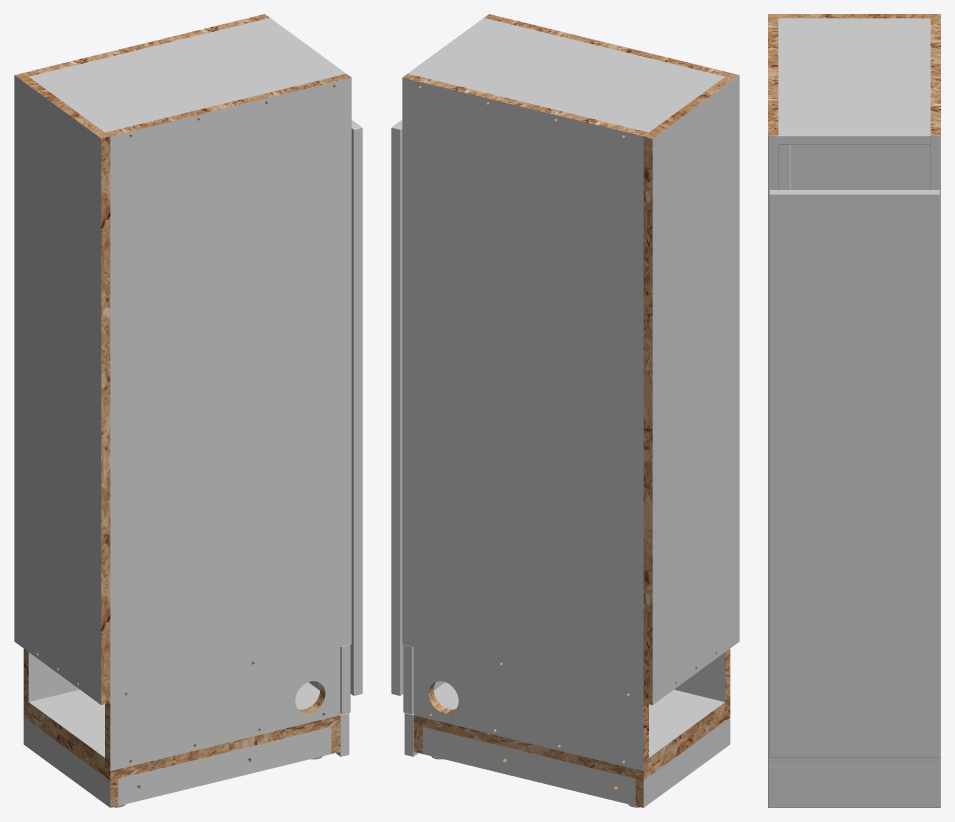
Rendered from Luvio(wood)_Semi_1C1D.glb.
3 renders of one model, left to right at view 1: azimuth 30°, elevation 25°; view 2: azimuth 150°, elevation 25°; view 3: azimuth 270°, elevation 25°, orthographic.
Visible parts, largest first — view 1: Body_Main_Left, Body_Main_BackPanel, Body_Main_UpCapTop, Door_Main_Front, Body_Core_BackPanel, Base_Core_Top, Body_Main_Bottom, Base_Main_Back, Body_Core_Left, Body_Main_Core_RightPanel, Body_Main_RightPanel, Body_Main_Plinth (+1 smaller); view 2: Body_Main_RightPanel, Body_Main_BackPanel, Body_Main_UpCapTop, Door_Main_Front, Body_Core_BackPanel, Base_Core_Top, Body_Main_Bottom, Base_Main_Back, Body_Main_Core_RightPanel, Body_Core_Left, Body_Main_Left, Body_Main_Plinth (+1 smaller); view 3: Door_Main_Front, Body_Main_UpCapTop, 0type_woodSemi, Body_Main_BackPanel, Body_Main_Plinth, Body_Main_Left, Body_Main_RightPanel, Body_Core_Left, Body_Main_Core_RightPanel, Body_Core_BackPanel, Body_Main_LockProfileLeft.
Part boxes in pixels (x1,y1,x2,y2): Body_Main_Left: [110, 73, 351, 805]; Body_Main_BackPanel: [14, 75, 101, 704]; Body_Main_UpCapTop: [29, 18, 345, 132]; Door_Main_Front: [350, 120, 362, 695]; Body_Core_BackPanel: [15, 73, 110, 704]; Base_Core_Top: [23, 708, 340, 780]; Body_Main_Bottom: [29, 682, 319, 757]; Base_Main_Back: [23, 717, 110, 807]; Body_Core_Left: [105, 74, 350, 789]; Body_Main_Core_RightPanel: [23, 14, 269, 710]; Body_Main_RightPanel: [28, 14, 269, 701]; Body_Main_Plinth: [308, 644, 350, 714]; Body_Main_RightPanel: [402, 73, 643, 805]; Body_Main_BackPanel: [652, 75, 739, 704]; Body_Main_UpCapTop: [408, 18, 724, 132]; Door_Main_Front: [391, 120, 403, 695]; Body_Core_BackPanel: [643, 73, 738, 704]; Base_Core_Top: [413, 708, 730, 780]; Body_Main_Bottom: [434, 682, 724, 757]; Base_Main_Back: [643, 717, 730, 807]; Body_Main_Core_RightPanel: [403, 74, 648, 789]; Body_Core_Left: [484, 14, 730, 710]; Body_Main_Left: [484, 14, 724, 701]; Body_Main_Plinth: [403, 644, 445, 714]; Door_Main_Front: [769, 190, 939, 757]; Body_Main_UpCapTop: [778, 18, 930, 144]; 0type_woodSemi: [768, 766, 940, 807]; Body_Main_BackPanel: [791, 145, 930, 189]; Body_Main_Plinth: [768, 699, 940, 766]; Body_Main_Left: [768, 135, 778, 699]; Body_Main_RightPanel: [930, 135, 940, 699]; Body_Core_Left: [768, 18, 778, 135]; Body_Main_Core_RightPanel: [930, 18, 940, 135]; Body_Core_BackPanel: [768, 14, 940, 18]; Body_Main_LockProfileLeft: [778, 145, 791, 189].
Size of the model in its own units: 52.25 by 129 by 30.
15 materials, 9 textured.
